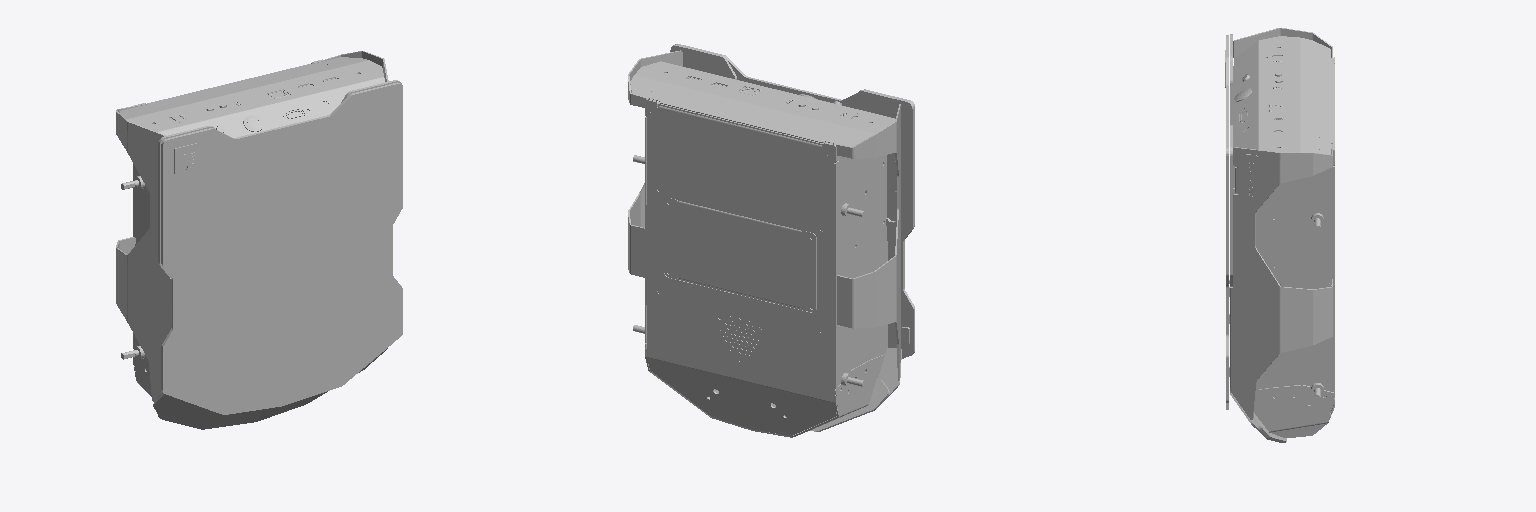
File: body.obj
The picture shows the model from 3 angles: view 1: azimuth 30°, elevation 25°; view 2: azimuth 150°, elevation 25°; view 3: azimuth 270°, elevation 25°; orthographic projection.
Visible parts, largest first — view 1: Body; view 2: Body; view 3: Body.
Part boxes in pixels (bbox=[...]): Body: bbox=[116, 51, 402, 429]; Body: bbox=[628, 44, 914, 437]; Body: bbox=[1225, 28, 1334, 442].
Bounding box in the file's own units: 0.2698 × 0.3321 × 0.1003.